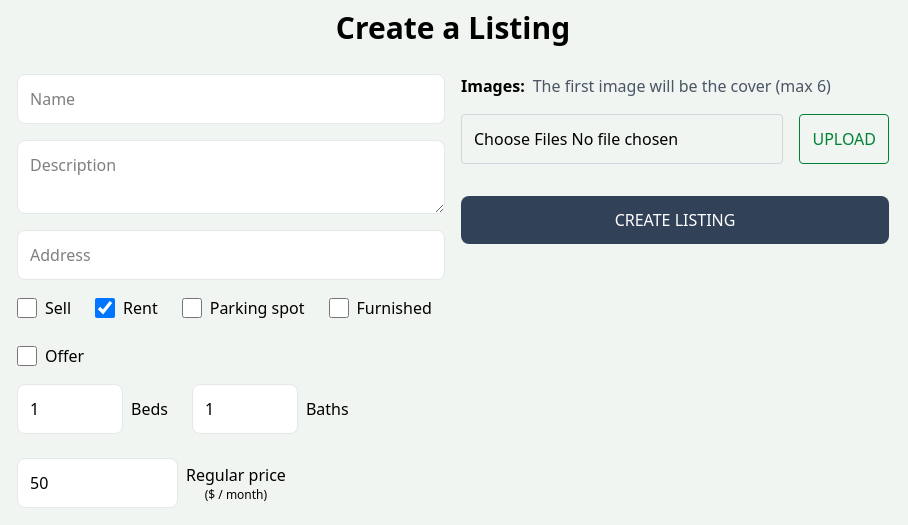
Test case: CreateListing Component › displays error when submitting without images
The image size is (908, 525).
Type "Test Property" into the field with placeholder "Name" at (231, 99), box [17,74,445,124]
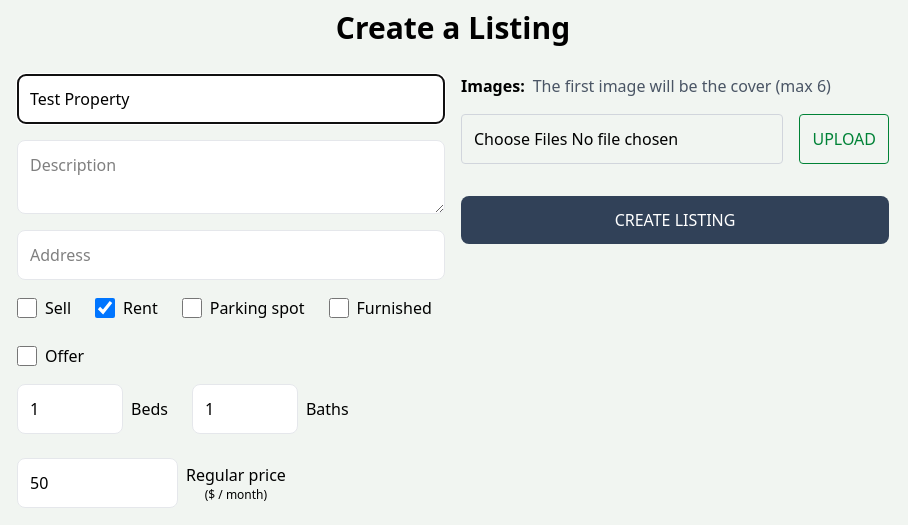
Type "Test Description" into the text box with placeholder "Description" at (231, 177), box [17,140,445,214]
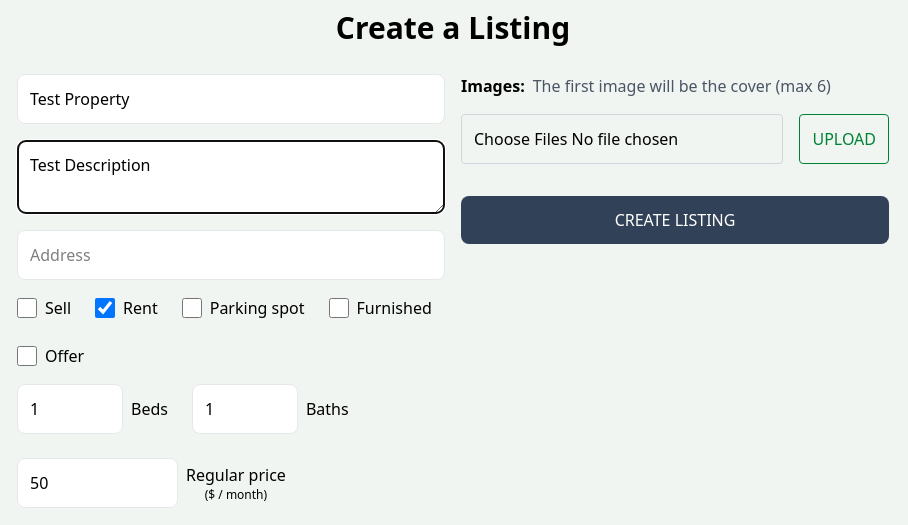
Type "Test Address" into the field with placeholder "Address" at (231, 255), box [17,230,445,280]
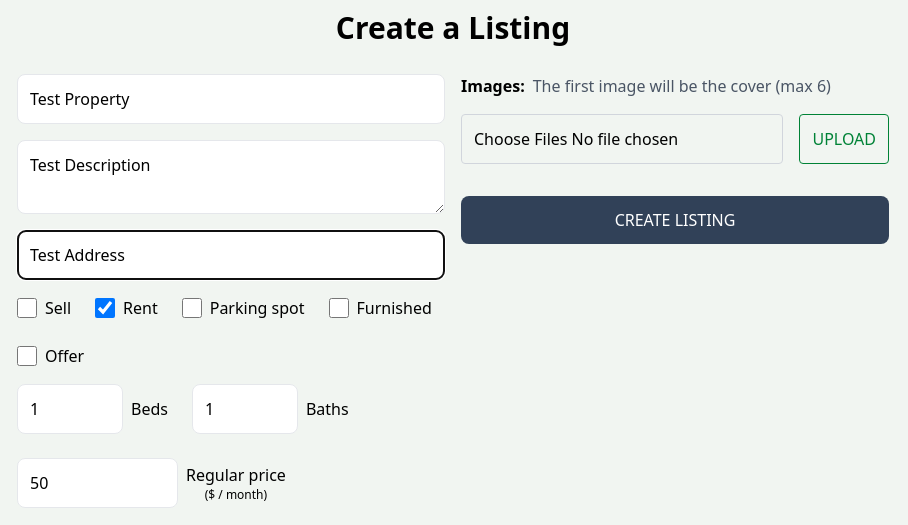
Click the button "Create listing" at (675, 220), box [461,196,889,244]
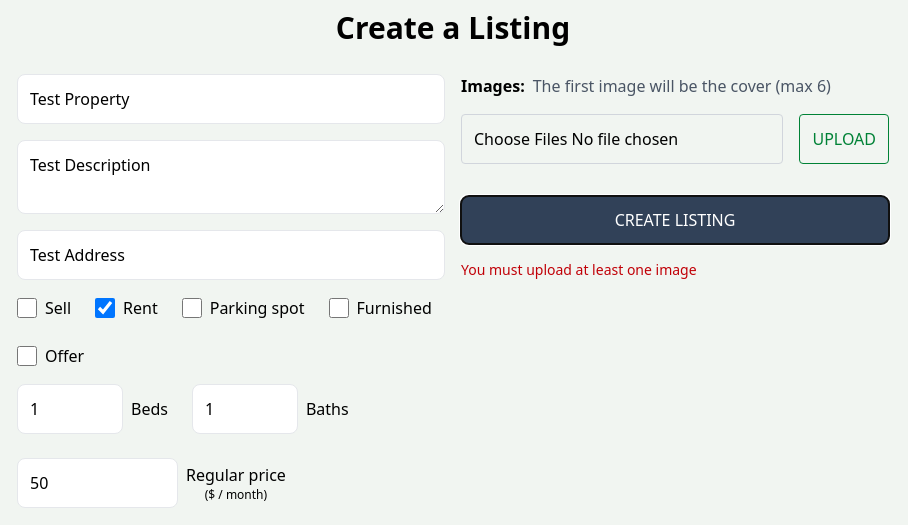
Result: the text "You must upload at least one image" is shown at [461,260,697,279]
